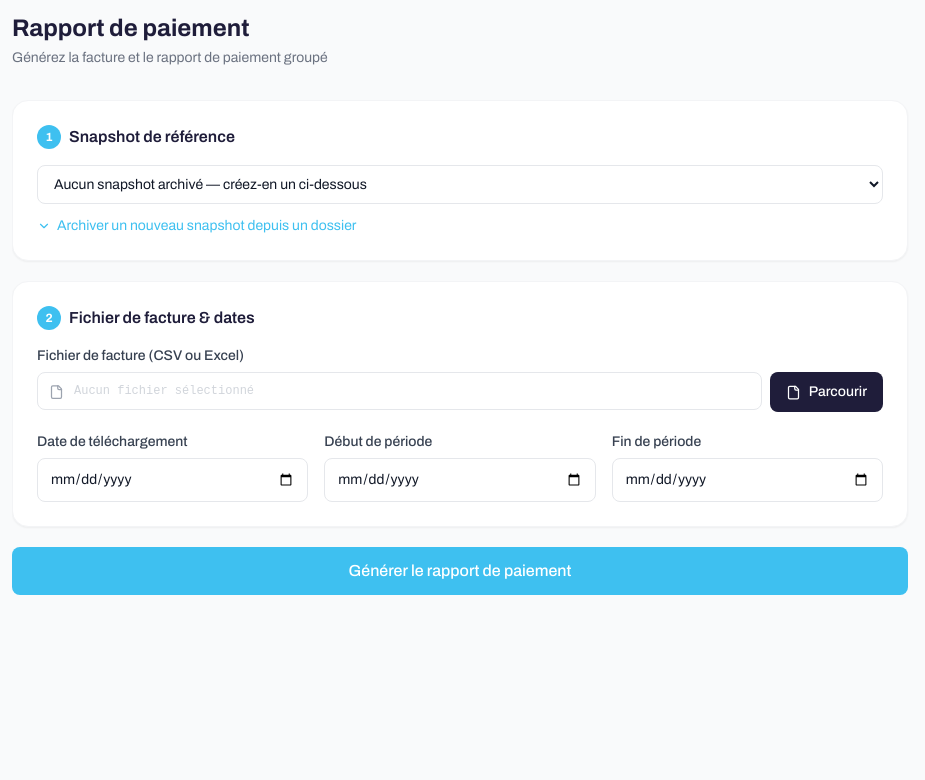
Test: PaymentPage — new snapshot form › toggles the archive form on button click
Expected: the text "Date de la référence" is not shown
Click the button "Archiver un nouveau snapshot depuis un dossier": [197, 226] box top-left (37, 216), bottom-right (356, 236)
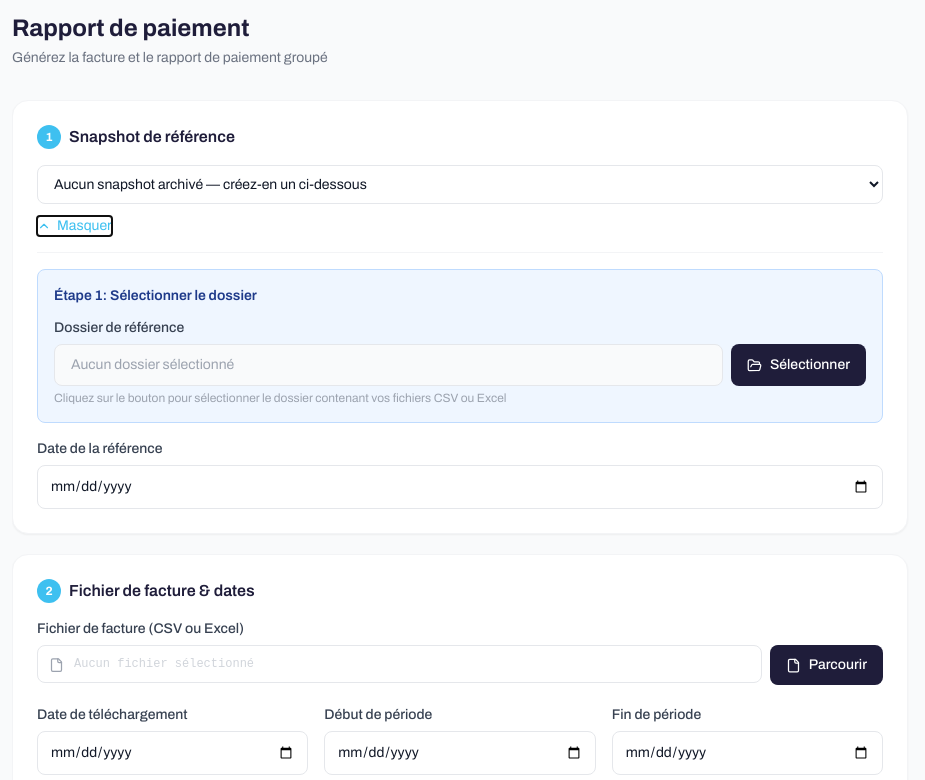
Result: the text "Date de la référence" is shown at top-left (37, 441), bottom-right (162, 456)
Click the button "Masquer": [74, 226] box top-left (37, 216), bottom-right (112, 236)
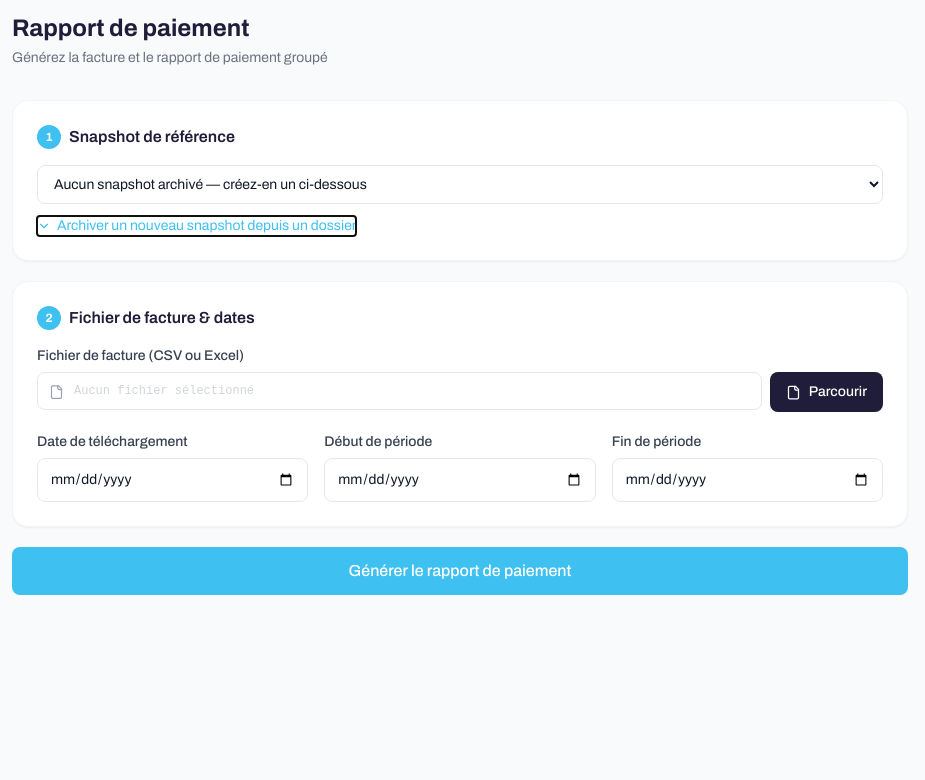
Result: the text "Date de la référence" is gone
